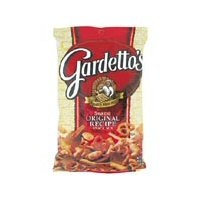grozi_3: (52, 24, 148, 174)
